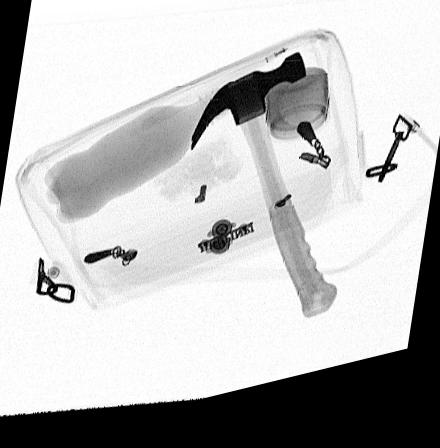Hammer: (192, 65, 337, 332)
